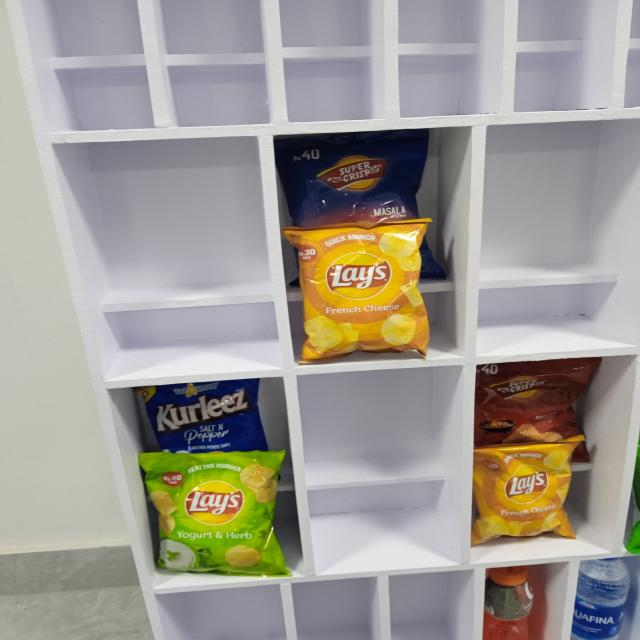Plastic: (304, 228, 422, 353), (160, 454, 274, 570), (285, 142, 420, 219), (478, 367, 589, 442), (478, 446, 566, 536), (154, 386, 254, 448), (582, 561, 630, 640), (487, 567, 535, 640)
